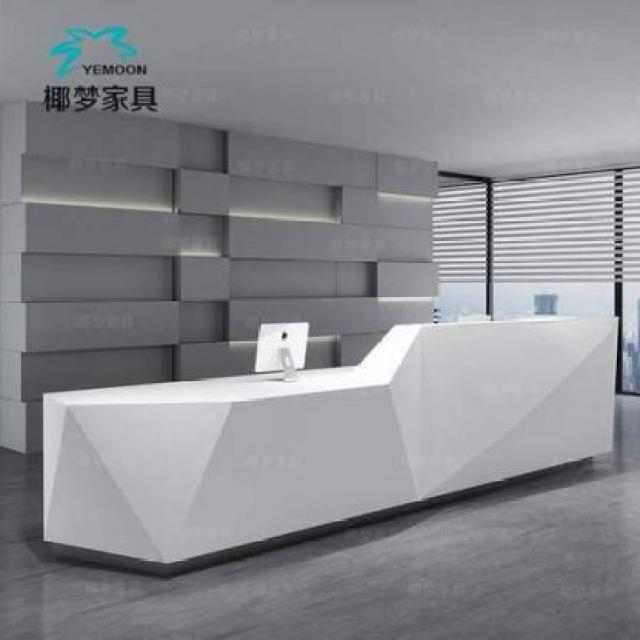frontdesk: (37, 308, 626, 585)
